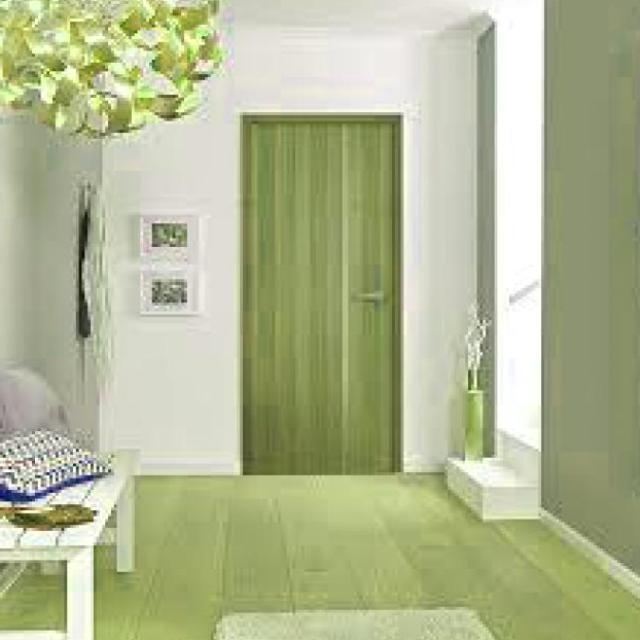Door: (241, 113, 400, 475)
